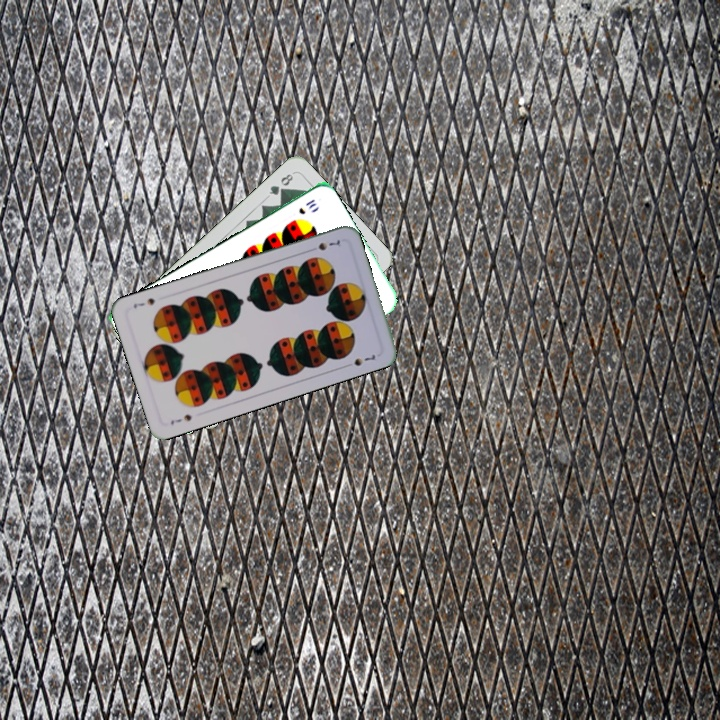G8: (265, 170, 296, 198)
S10: (295, 195, 319, 217)
S7: (305, 236, 343, 254), (166, 410, 194, 428)
